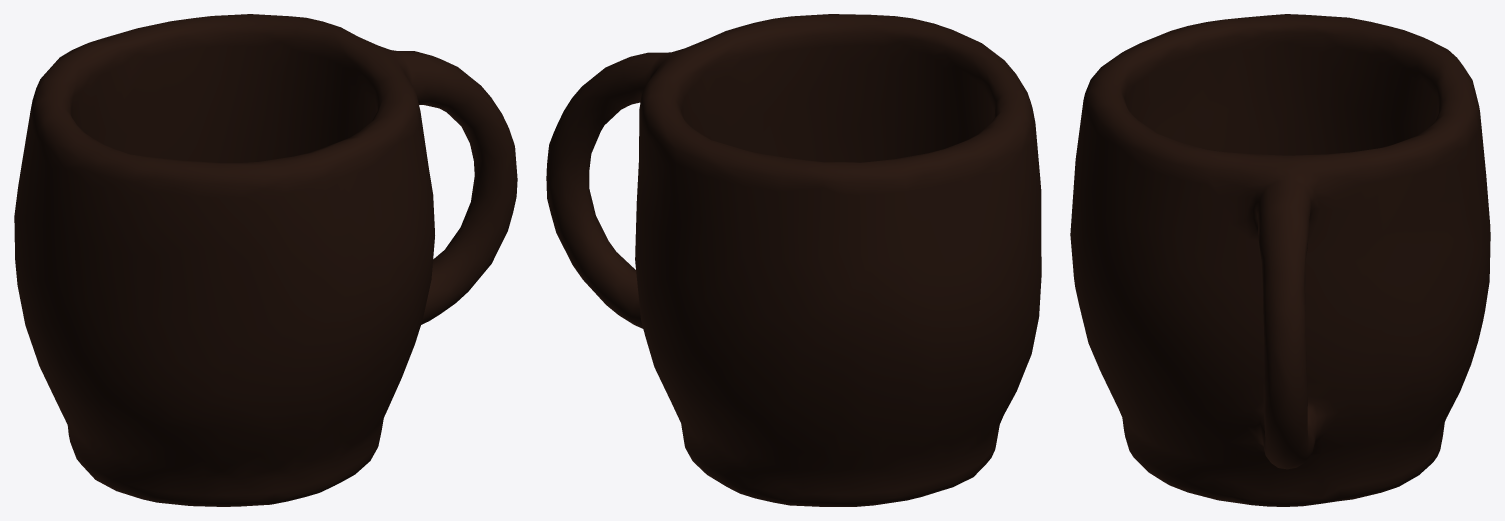
Rendered from Cup1_LOD.fbx.
3 renders of one model, left to right at view 1: azimuth 30°, elevation 25°; view 2: azimuth 150°, elevation 25°; view 3: azimuth 270°, elevation 25°, orthographic.
Visible parts, largest first — view 1: Cup1_LOD0; view 2: Cup1_LOD0; view 3: Cup1_LOD0.
Boxes of the visible parts, x1,y1,x2,y2 form: Cup1_LOD0: (14,14,517,506); Cup1_LOD0: (546,14,1041,506); Cup1_LOD0: (1070,14,1490,506).
Size of what is drawn, in the model's own units: 0.1108 by 0.081 by 0.0841.
